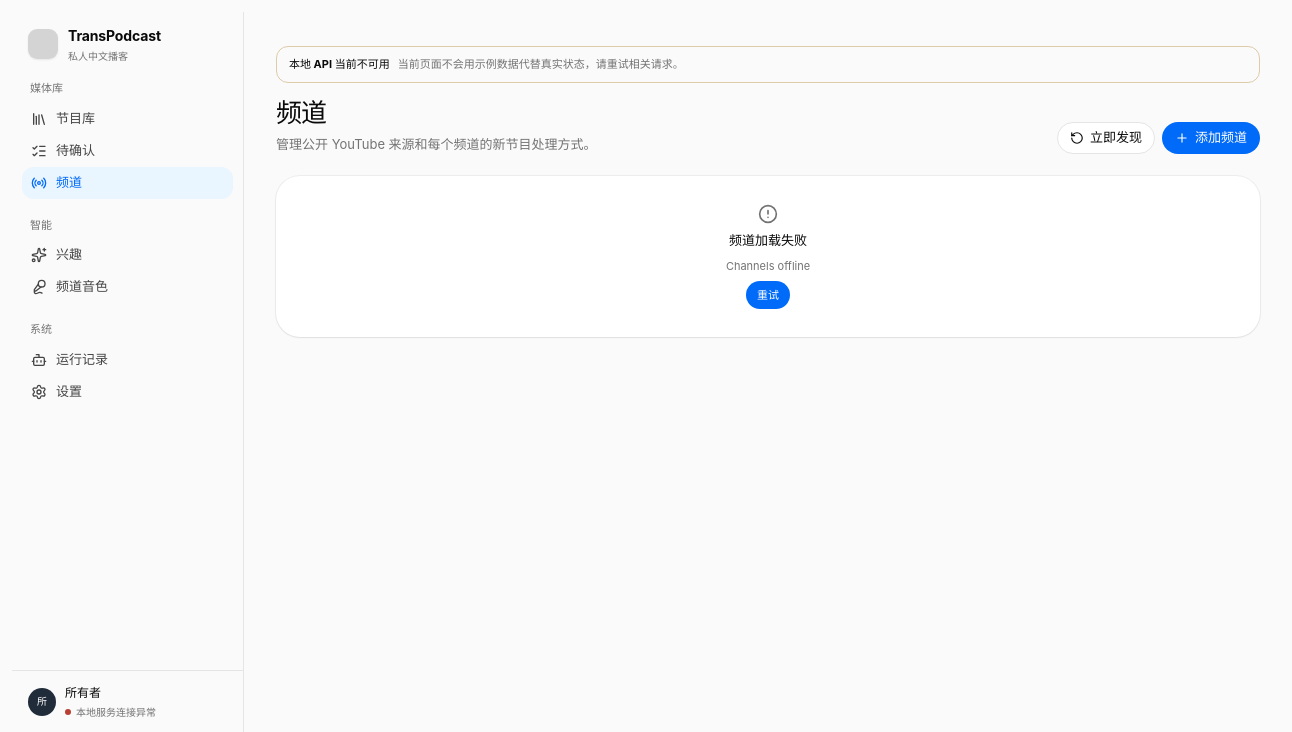
Test: TransPodcast Host navigation › recovers the Source Channel list without showing sample channels
The width and height of the screenshot is (1292, 732).
Expected: the text "频道加载失败" is shown, [729,231,807,251]
Click the button "重试" at (768, 295), box [746,281,790,309]
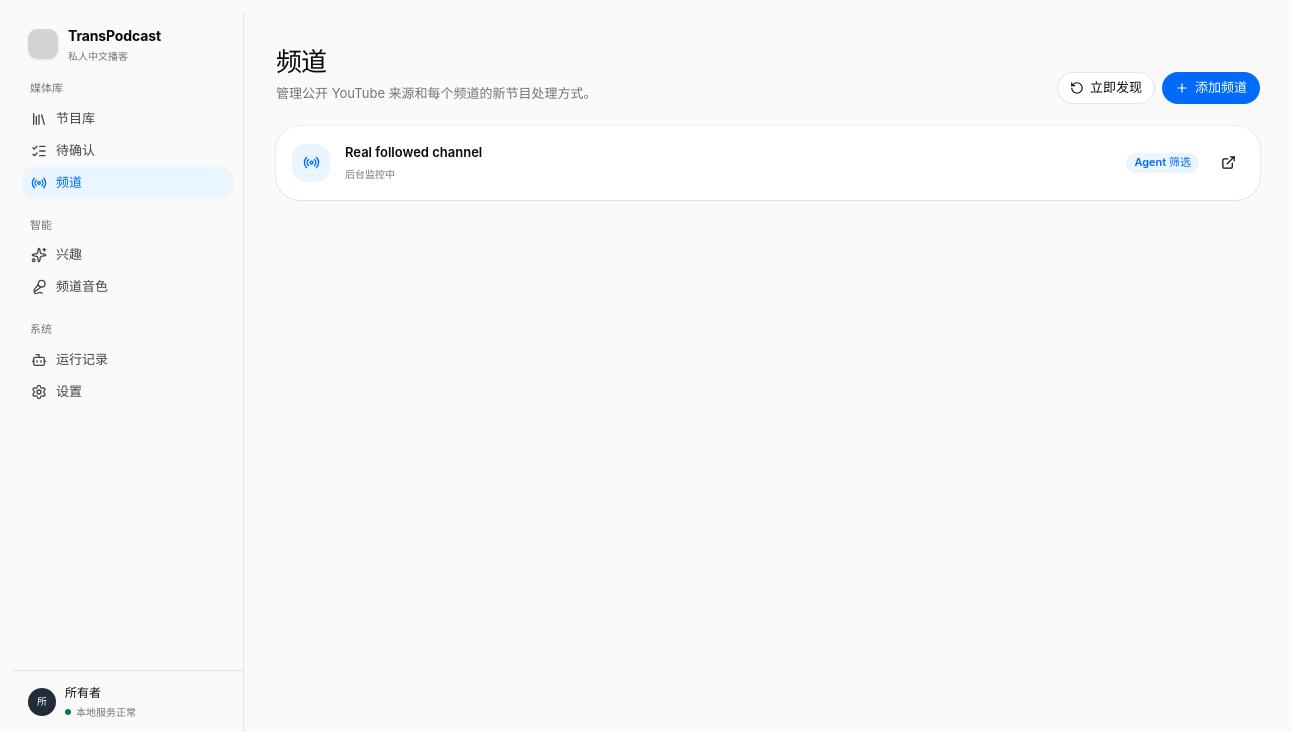
Result: the button "Real followed channel" is shown at [345,143,482,162]
